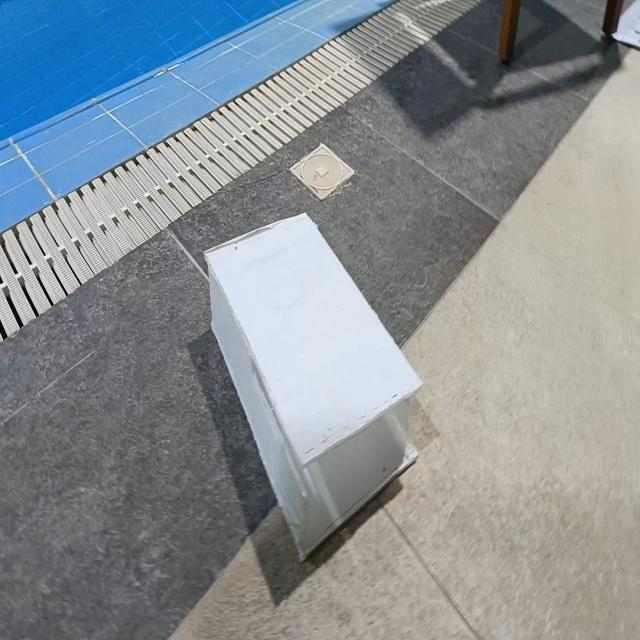Cuboid: (203, 210, 424, 562)
